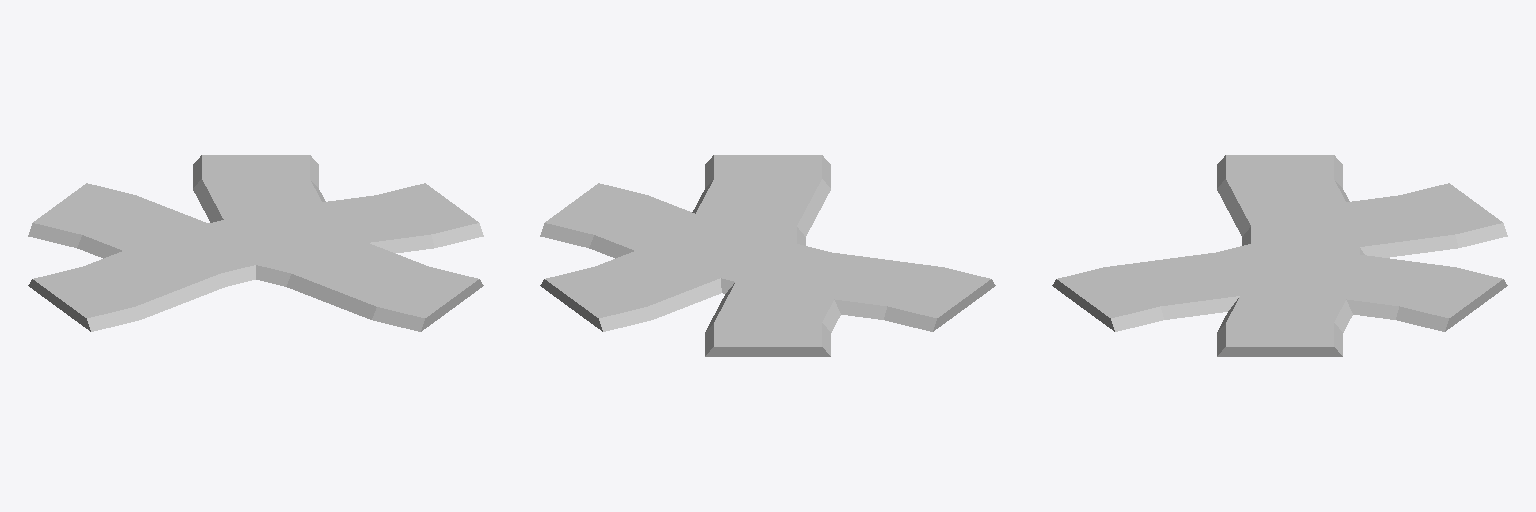
The model's file is path_intersectionG.obj.
3 renders of one model, left to right at view 1: azimuth 30°, elevation 25°; view 2: azimuth 150°, elevation 25°; view 3: azimuth 270°, elevation 25°, orthographic.
Parts seen in each view (by area): view 1: path_intersectionG; view 2: path_intersectionG; view 3: path_intersectionG.
Part boxes in pixels (left/top/right/bottom): path_intersectionG: left=28, top=155, right=483, bottom=331; path_intersectionG: left=540, top=155, right=995, bottom=356; path_intersectionG: left=1052, top=155, right=1507, bottom=356.
Size of the model in its own units: 1 by 0.025 by 1.01.